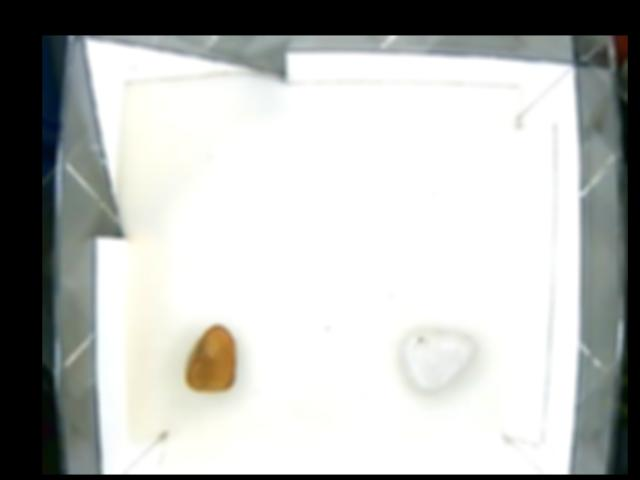Pebble: (399, 330, 474, 394), (184, 322, 237, 392)
